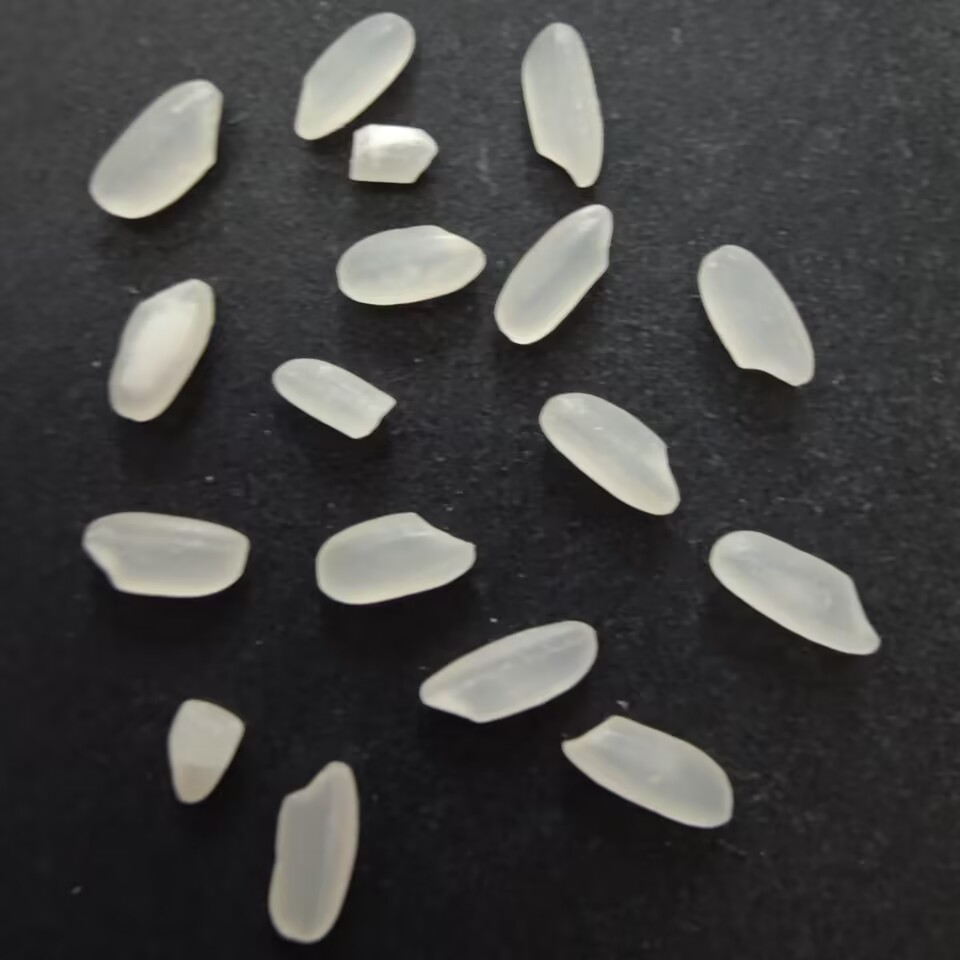broken: (268, 354, 400, 445), (162, 695, 251, 808), (341, 122, 441, 188)
rice: (706, 525, 883, 659), (86, 76, 227, 225), (414, 614, 598, 726), (556, 714, 731, 831), (537, 389, 684, 519), (695, 237, 819, 388), (266, 757, 365, 945), (493, 201, 614, 351), (314, 507, 480, 608), (81, 508, 257, 603), (293, 9, 419, 141), (108, 277, 216, 425), (517, 20, 606, 194), (333, 222, 489, 307)
